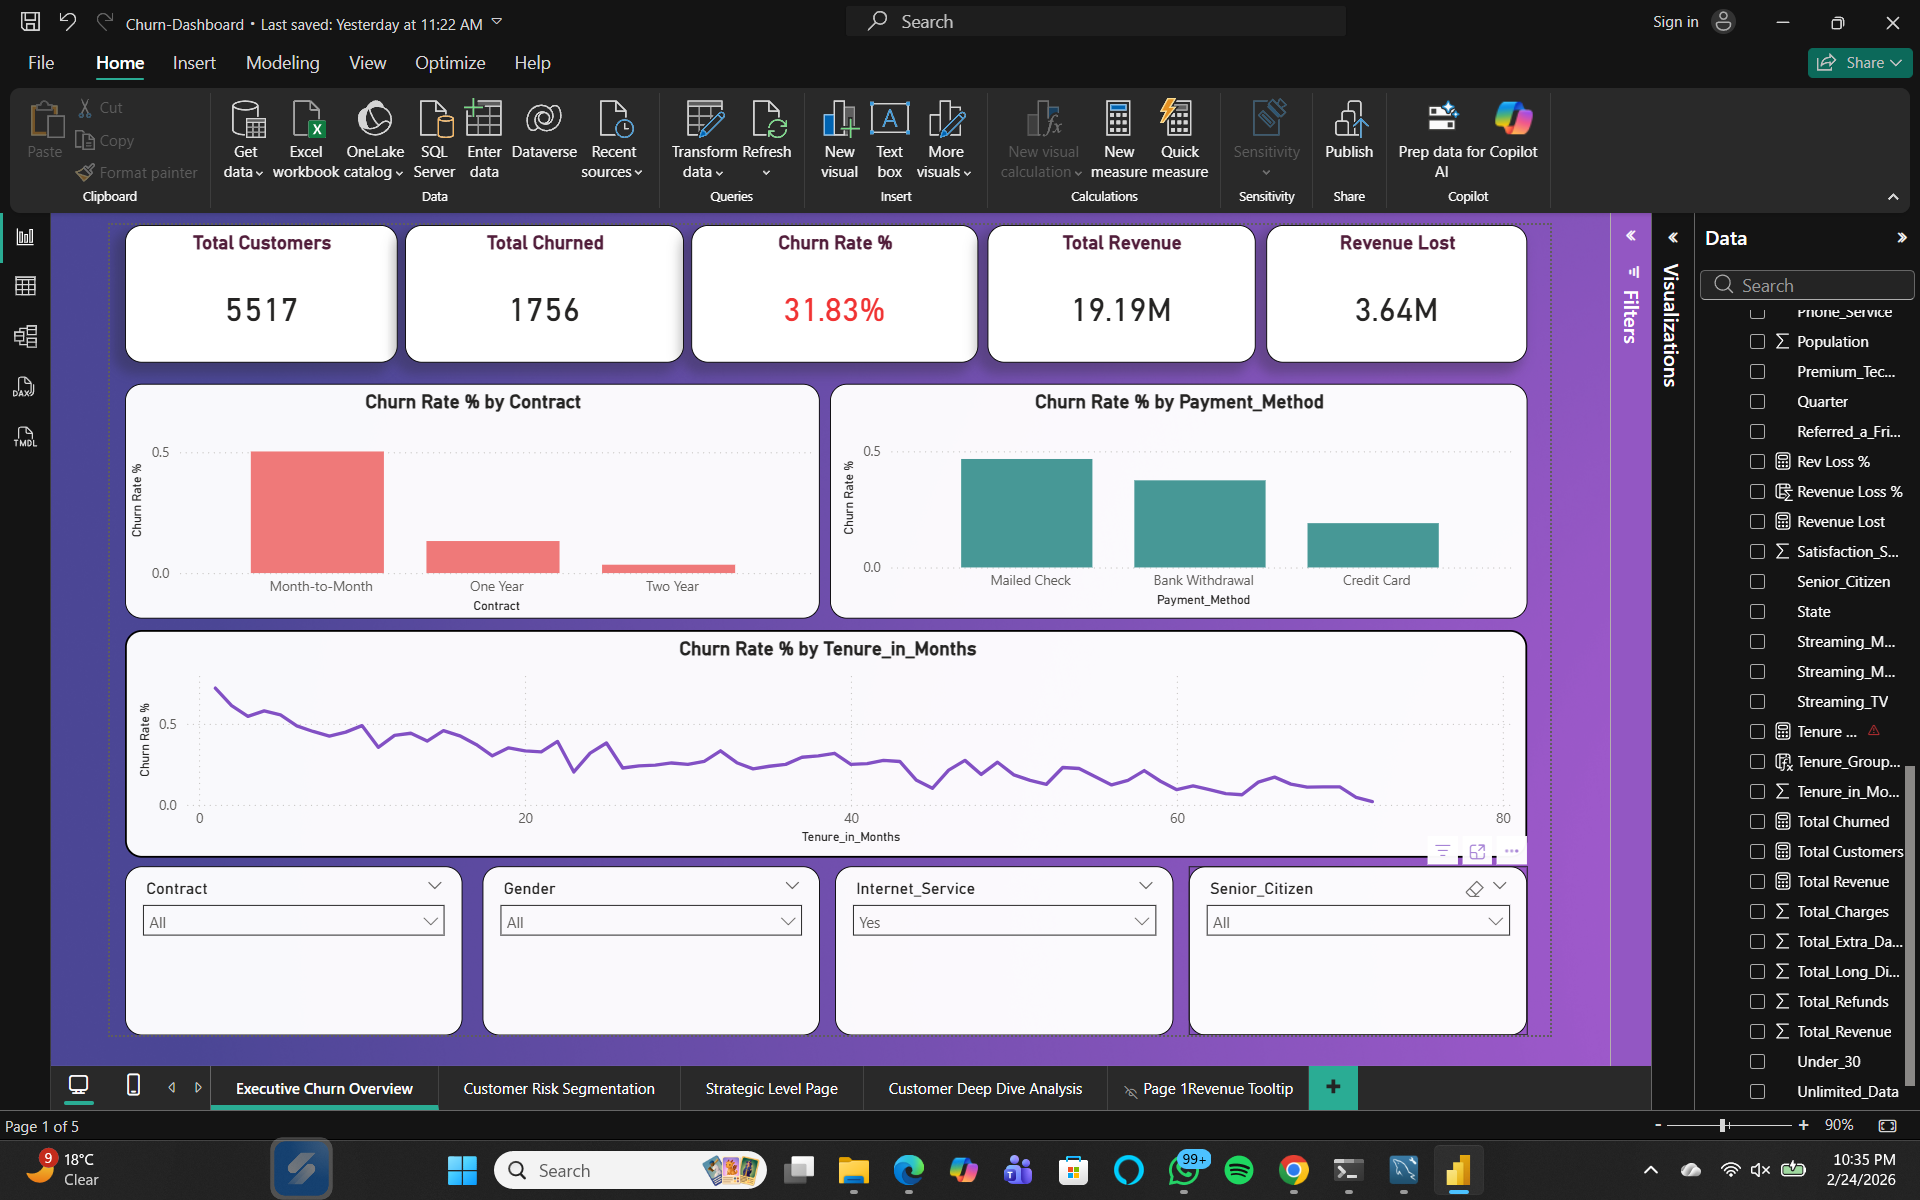

The dashboard page shown, as its layout file describes it:
{"tool":"powerbi","page":{"name":"Executive Churn Overview","canvas":[1280,720],"ordinal":0},"visuals":[{"type":"card","title":"Total Customers","fields":{"Values":["churn_analysis churn_data.Total Customers"]},"box":[13.3,0,242.2,122.2],"z":0},{"type":"card","title":"Total Churned","fields":{"Values":["churn_analysis churn_data.Total Churned"]},"box":[262,0,248,122],"z":1000},{"type":"card","title":"Churn Rate %","fields":{"Values":["churn_analysis churn_data.Churn Rate %"]},"box":[517,0,255,122],"z":2000},{"type":"card","title":"Revenue Lost","fields":{"Values":["churn_analysis churn_data.Revenue Lost"]},"box":[1027.8,0,232.2,122.2],"z":3000},{"type":"card","title":"Total Revenue","fields":{"Values":["Sum(churn_analysis churn_data.Total_Revenue)"]},"box":[780,0,238,122],"z":4000},{"type":"clusteredColumnChart","fields":{"Category":["churn_analysis churn_data.Contract"],"Y":["churn_analysis churn_data.Churn Rate %"]},"box":[13.3,141.1,617.8,208.9],"z":5000},{"type":"columnChart","fields":{"Category":["churn_analysis churn_data.Payment_Method"],"Y":["churn_analysis churn_data.Churn Rate %"]},"box":[640,141.1,620,208.9],"z":6000},{"type":"lineChart","fields":{"Category":["churn_analysis churn_data.Tenure_in_Months"],"Y":["churn_analysis churn_data.Churn Rate %"]},"box":[13.3,360,1246.7,202.2],"z":7000},{"type":"slicer","fields":{"Values":["churn_analysis churn_data.Contract"]},"box":[13.3,570,300,150],"z":8000},{"type":"slicer","fields":{"Values":["churn_analysis churn_data.Gender"]},"box":[331.1,570,300,150],"z":9000},{"type":"slicer","fields":{"Values":["churn_analysis churn_data.Internet_Service"]},"box":[644.4,570,301.1,150],"z":10000},{"type":"slicer","fields":{"Values":["churn_analysis churn_data.Senior_Citizen"]},"box":[958.9,570,301.1,150],"z":11000}]}

Visuals, with their boxes on the page's 1280x720 design canvas (x1, y1, x2, y2). These are canvas units, not pixel positions in the 1920x1200 screenshot, which may show the page scaled, cropped or inside an application window:
"Total Customers" card: bbox=[13, 0, 256, 122]
"Total Churned" card: bbox=[262, 0, 510, 122]
"Churn Rate %" card: bbox=[517, 0, 772, 122]
"Revenue Lost" card: bbox=[1028, 0, 1260, 122]
"Total Revenue" card: bbox=[780, 0, 1018, 122]
clusteredColumnChart - churn_analysis churn_data.Contract x churn_analysis churn_data.Churn Rate %: bbox=[13, 141, 631, 350]
columnChart - churn_analysis churn_data.Payment_Method x churn_analysis churn_data.Churn Rate %: bbox=[640, 141, 1260, 350]
lineChart - churn_analysis churn_data.Tenure_in_Months x churn_analysis churn_data.Churn Rate %: bbox=[13, 360, 1260, 562]
slicer - churn_analysis churn_data.Contract: bbox=[13, 570, 313, 720]
slicer - churn_analysis churn_data.Gender: bbox=[331, 570, 631, 720]
slicer - churn_analysis churn_data.Internet_Service: bbox=[644, 570, 946, 720]
slicer - churn_analysis churn_data.Senior_Citizen: bbox=[959, 570, 1260, 720]
